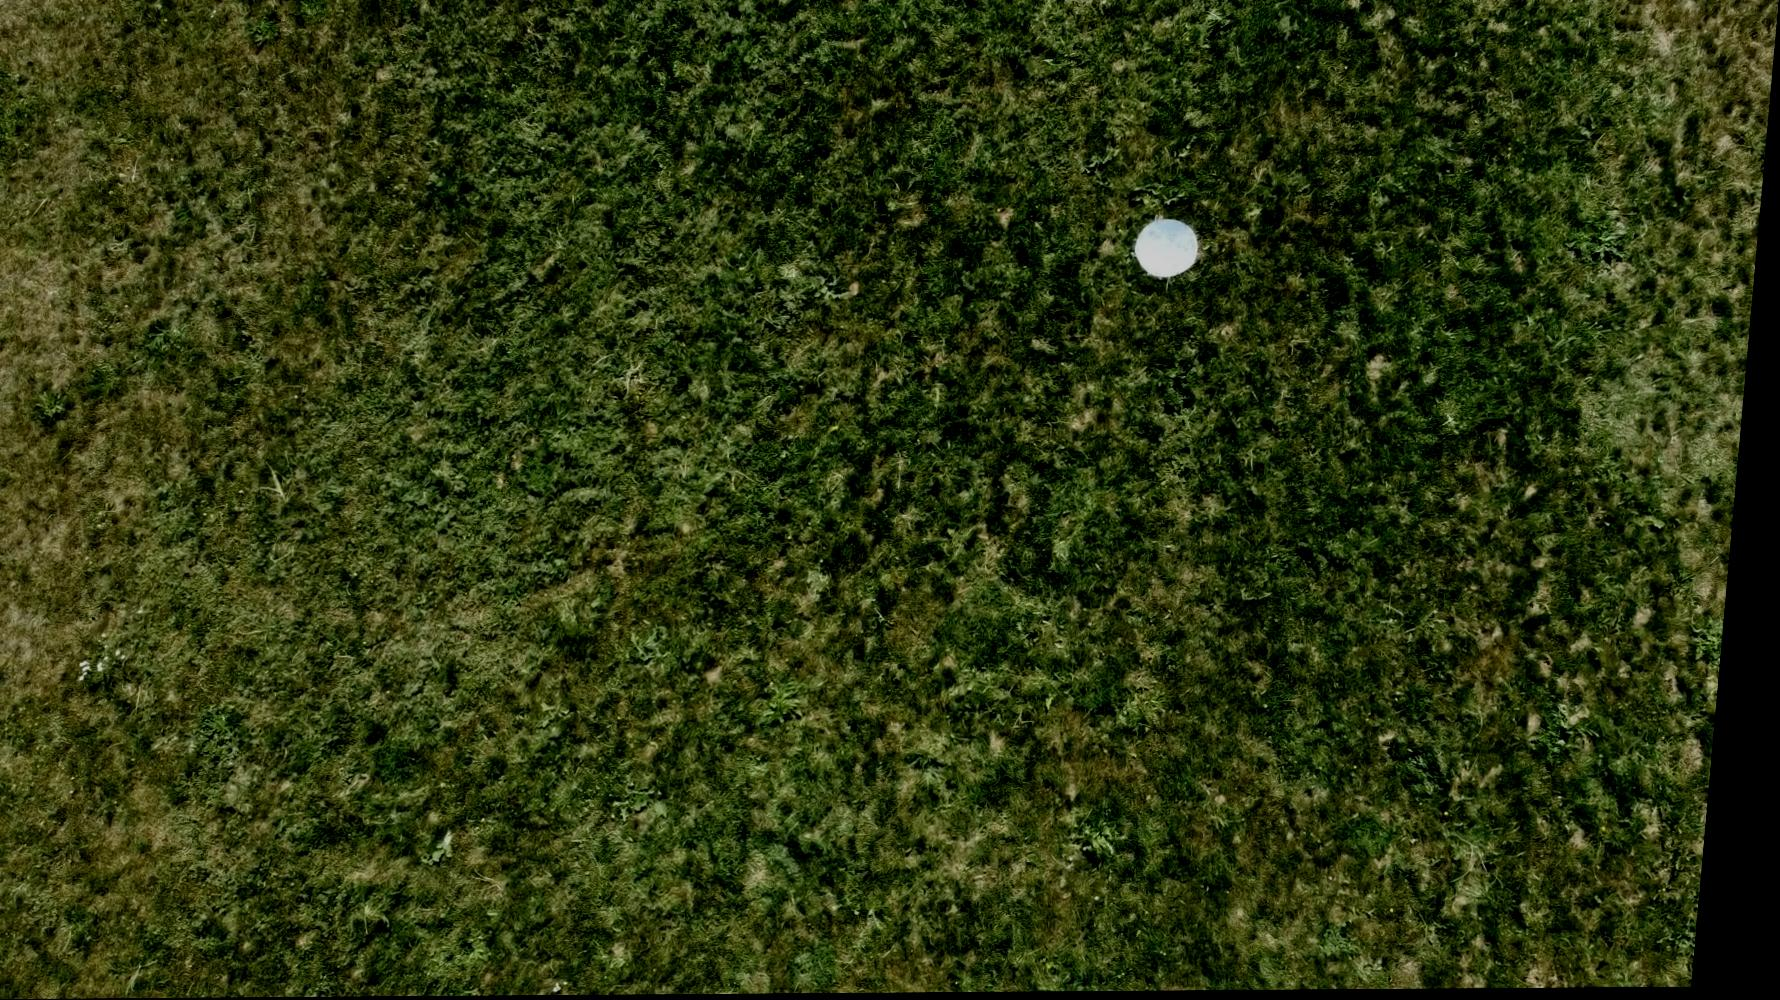Blue: (1133, 216, 1212, 282)
